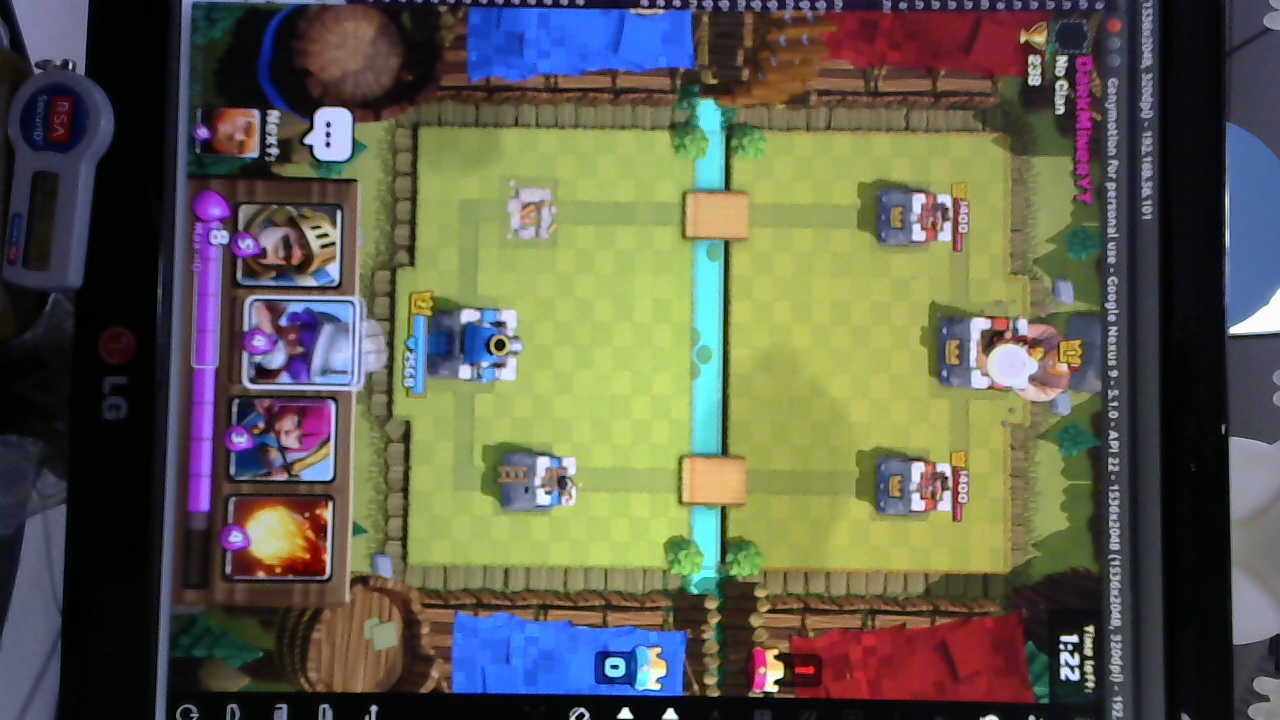arena: (497, 449, 578, 514)
darena: (505, 178, 557, 247)
earena: (869, 457, 955, 521), (871, 187, 957, 250)
eking: (941, 310, 1047, 392)
giant: (1027, 316, 1072, 404)
king: (431, 305, 522, 383)
